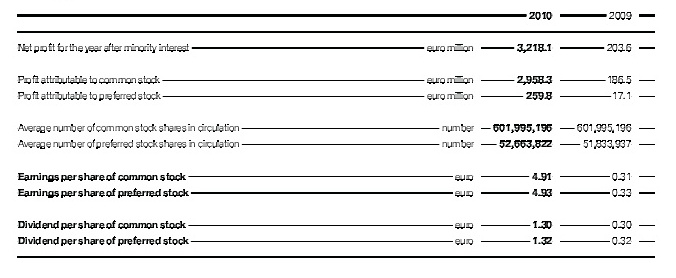table: (0, 0, 676, 278)
